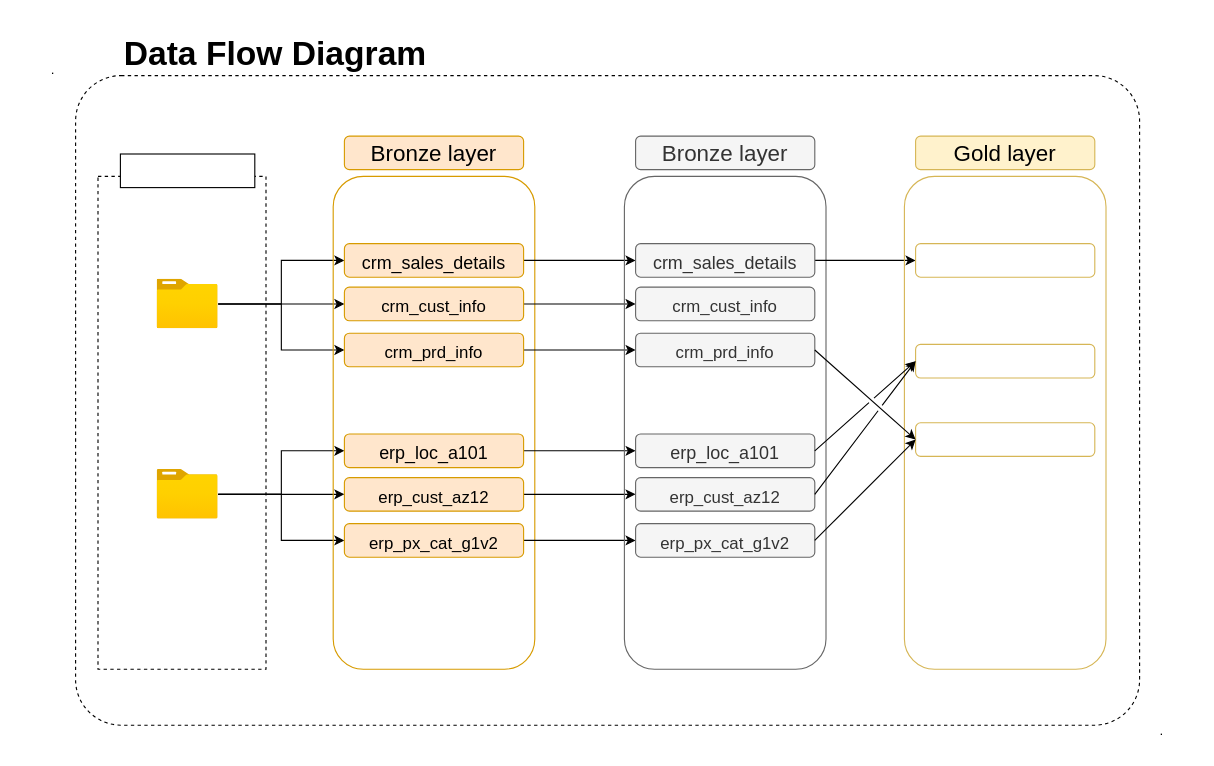
This 1214x766 diagram has some shape labels left out. The shapes that lost their labels are listed below. From the top down, each one's centre as x and y in pixels, then its label:
the point at 187,170: source
the point at 1004,259: Fact_sales
the point at 187,303: CRM
the point at 1004,360: Dim_customers
the point at 1004,439: Dim_products
the point at 187,494: ERB
